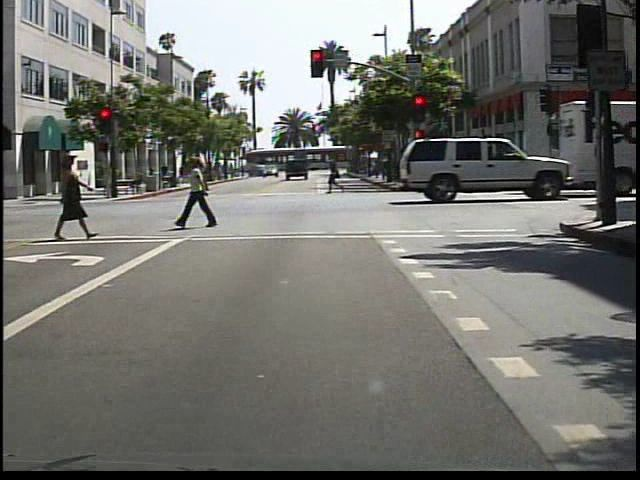person: (53, 147, 97, 243), (179, 155, 219, 231), (326, 149, 351, 196), (158, 160, 172, 186), (3, 151, 4, 245)
